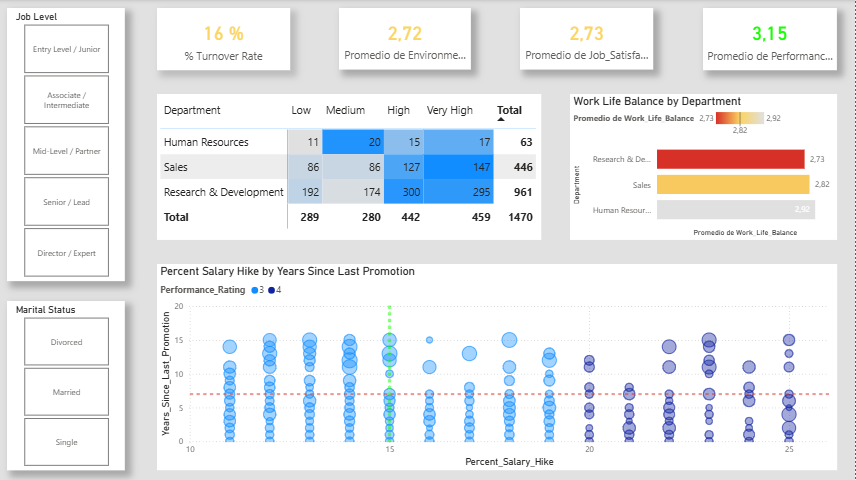

This screenshot's page, from the dashboard's own definition file:
{"tool":"powerbi","page":{"name":"Well-being and performance","canvas":[1280,720],"ordinal":2},"visuals":[{"type":"slicer","fields":{"Values":["Dim_JobDetails.Job_Level_Description"]},"box":[10.9,14,176.2,408.5],"z":0},{"type":"slicer","fields":{"Values":["Dim_Employee.Marital_Status"]},"box":[10.9,450.6,176.2,252.6],"z":1},{"type":"group","id":"g1","title":"Grupo 1","box":[234.5,13.4,1015.8,92.6],"z":6},{"type":"clusteredBarChart","title":"Work Life Balance by Department","fields":{"Category":["Dim_JobDetails.Department"],"Y":["Avg(Dim_Satisfaction.Work_Life_Balance)"]},"box":[851.5,141.9,398.8,218.1],"z":7},{"type":"pivotTable","fields":{"Columns":["Dim_Satisfaction.Job_Satisfaction_Description"],"Rows":["Dim_JobDetails.Department"],"Values":["_Measures.Total Employees"]},"box":[234.5,141.9,573.6,218.1],"z":8},{"type":"scatterChart","title":"Percent Salary Hike by Years Since Last Promotion","fields":{"Series":["Dim_PerformancePay.Performance_Rating"],"Size":["Avg(Dim_PerformancePay.Monthly_Income)"],"X":["Dim_PerformancePay.Percent_Salary_Hike"],"Y":["Dim_Tenure.Years_Since_Last_Promotion"]},"box":[234.5,395.9,1015.8,307.7],"z":9},{"type":"card","fields":{"Values":["Avg(Dim_Satisfaction.Job_Satisfaction)"]},"box":[777.4,13.4,199.3,92.3],"z":2000,"group":"g1"},{"type":"card","fields":{"Values":["Avg(Dim_Satisfaction.Environment_Satisfaction)"]},"box":[506.7,13.4,197.4,92.3],"z":3000,"group":"g1"},{"type":"card","fields":{"Values":["Avg(Dim_PerformancePay.Performance_Rating)"]},"box":[1050,13.4,200.3,92.6],"z":4000,"group":"g1"},{"type":"card","title":"Total Empoyees","fields":{"Values":["_Measures.% Turnover Rate"]},"box":[234.5,13.4,198.8,92.6],"z":5000,"group":"g1"}]}

Visuals, with their boxes in screenshot pixels (x1, y1, x2, y2), scaled from the page's 1280x720 canvas onto the 856x480 screenshot:
slicer - Dim_JobDetails.Job_Level_Description: bbox=[7, 9, 125, 282]
slicer - Dim_Employee.Marital_Status: bbox=[7, 300, 125, 469]
"Grupo 1" group: bbox=[157, 9, 836, 71]
"Work Life Balance by Department" clusteredBarChart: bbox=[569, 95, 836, 240]
pivotTable - Dim_Satisfaction.Job_Satisfaction_Description x Dim_JobDetails.Department: bbox=[157, 95, 540, 240]
"Percent Salary Hike by Years Since Last Promotion" scatterChart: bbox=[157, 264, 836, 469]
card - Avg(Dim_Satisfaction.Job_Satisfaction): bbox=[520, 9, 653, 70]
card - Avg(Dim_Satisfaction.Environment_Satisfaction): bbox=[339, 9, 471, 70]
card - Avg(Dim_PerformancePay.Performance_Rating): bbox=[702, 9, 836, 71]
"Total Empoyees" card: bbox=[157, 9, 290, 71]
